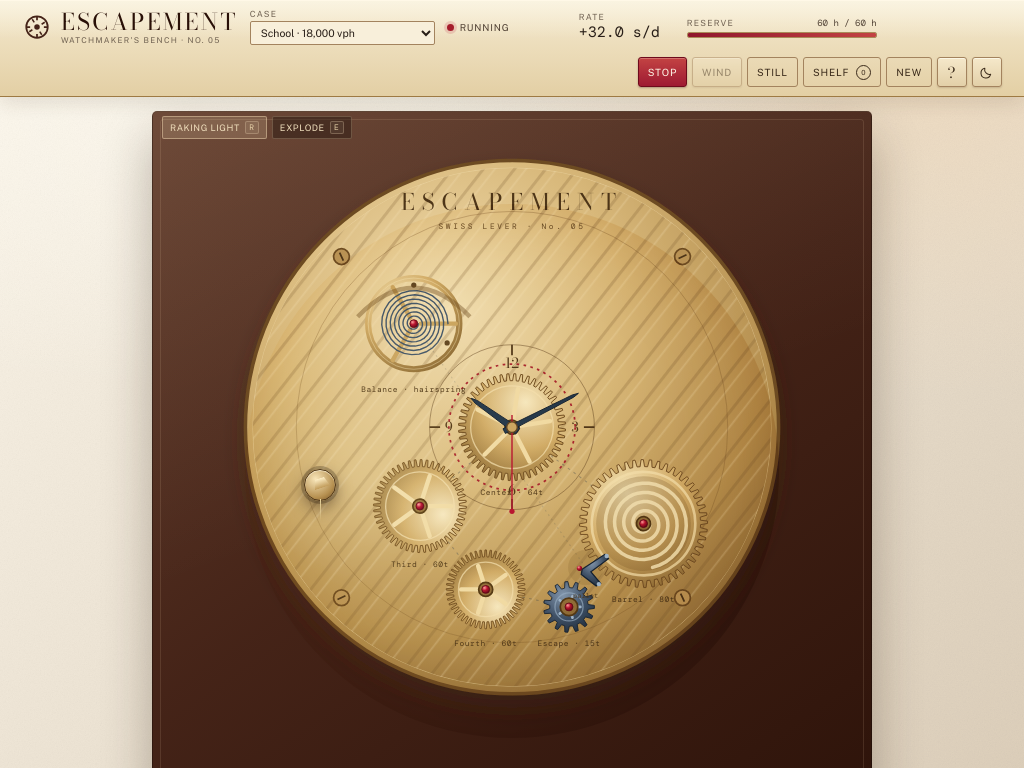
Test case: bench shell › saves the current bench to the shelf
The image size is (1024, 768).
Expected: the dropdown labelled "Case" is shown, 250,21 -> 435,45
Step 1. Click the button with aria-label "Open the calibre shelf" → (842, 72), box 803,57 -> 881,87
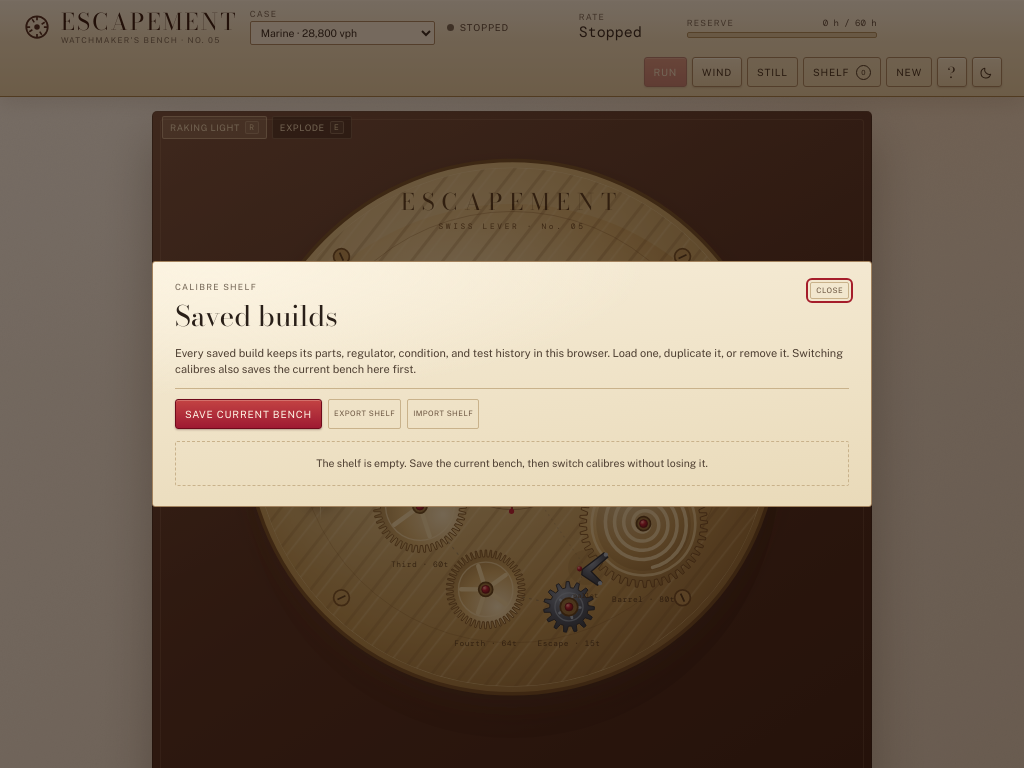
Step 2. Click the button "Save current bench" → (248, 414), box 175,399 -> 322,429
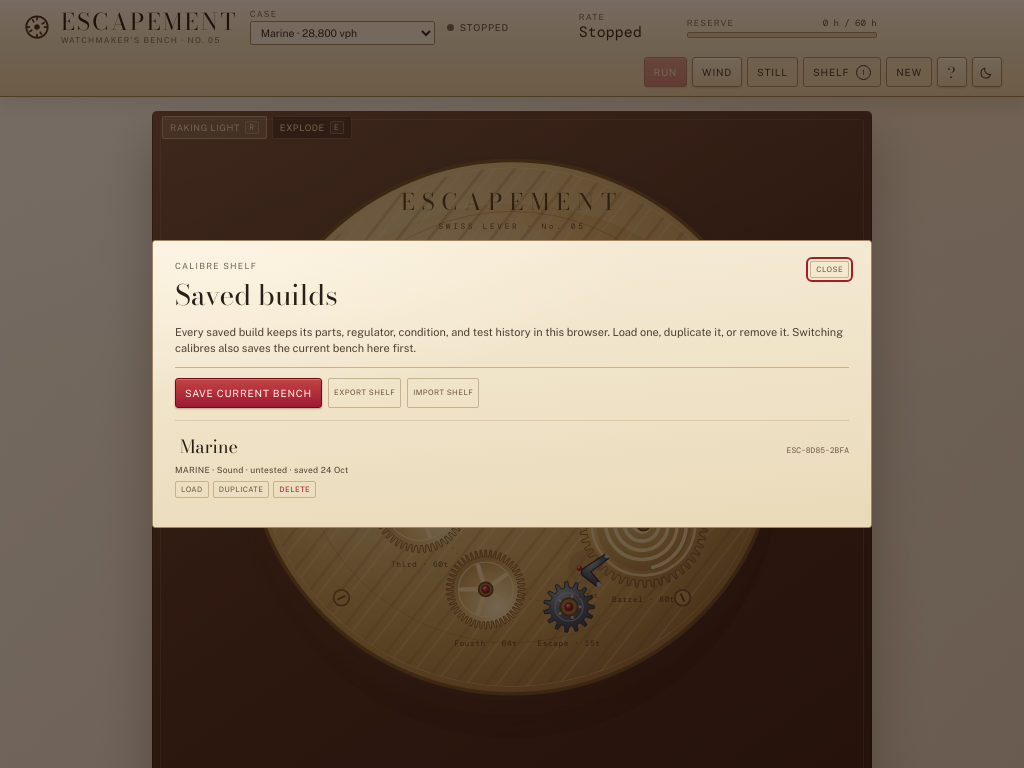
Result: the button "Load" is shown at 175,481 -> 209,498
Result: the text "The shelf is empty" is gone
